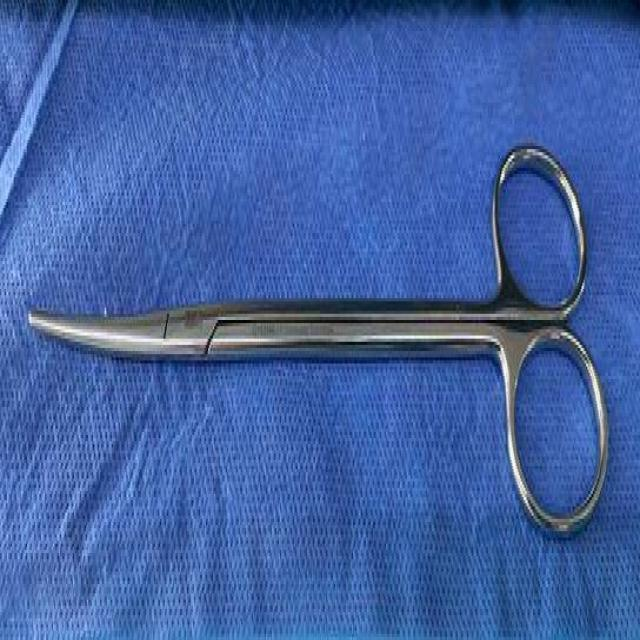Mayo_metz: (20, 124, 618, 569)
